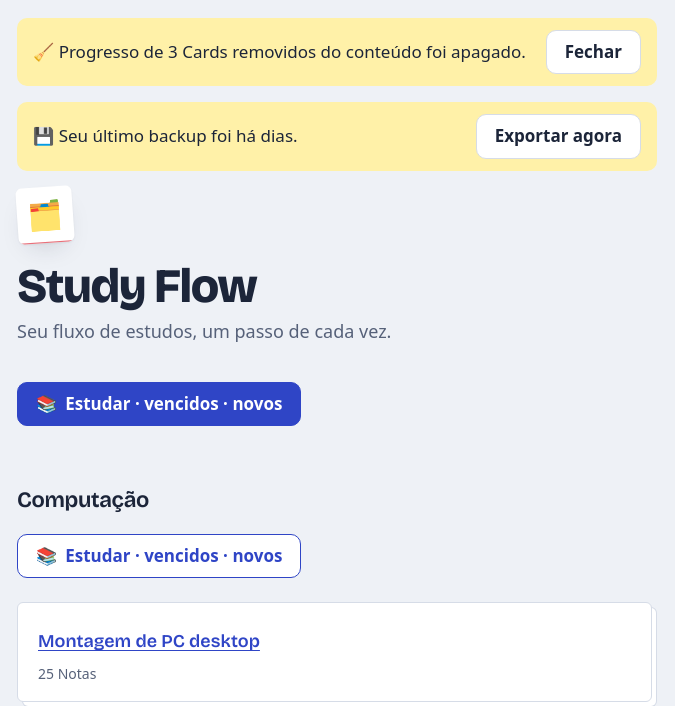
Test: AvisoOrfaos › aparece com Cards removidos e, fechado, não volta ao navegar
Check: the text "Progresso de 3 Cards removidos do conteúdo foi apagado." is shown, box [59, 40, 526, 63]
Click the button "Fechar" at point(593, 52), box [546, 30, 641, 74]
(page scrolled)
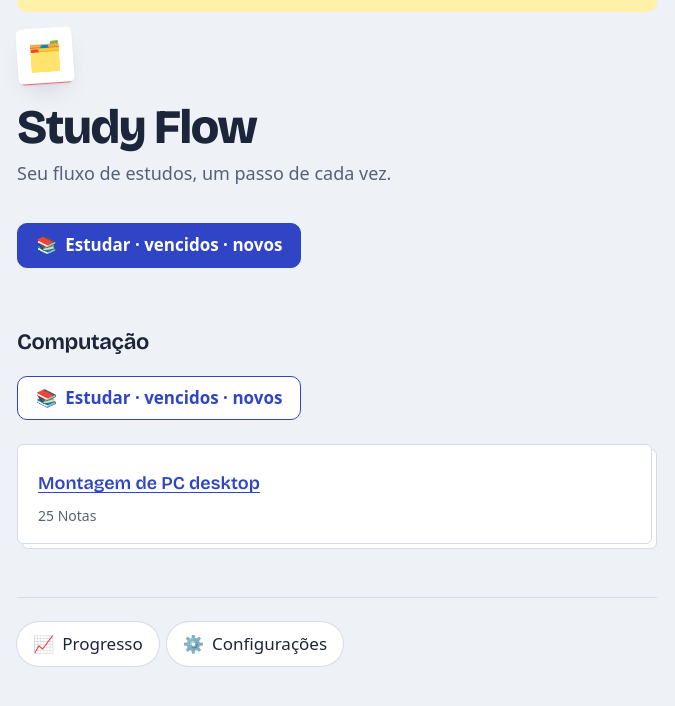
Check: the text "Progresso de 3 Cards removidos do conteúdo foi apagado." is gone
Click the link "⚙️ Configurações" at point(255, 644), box [167, 622, 343, 666]
(page scrolled)
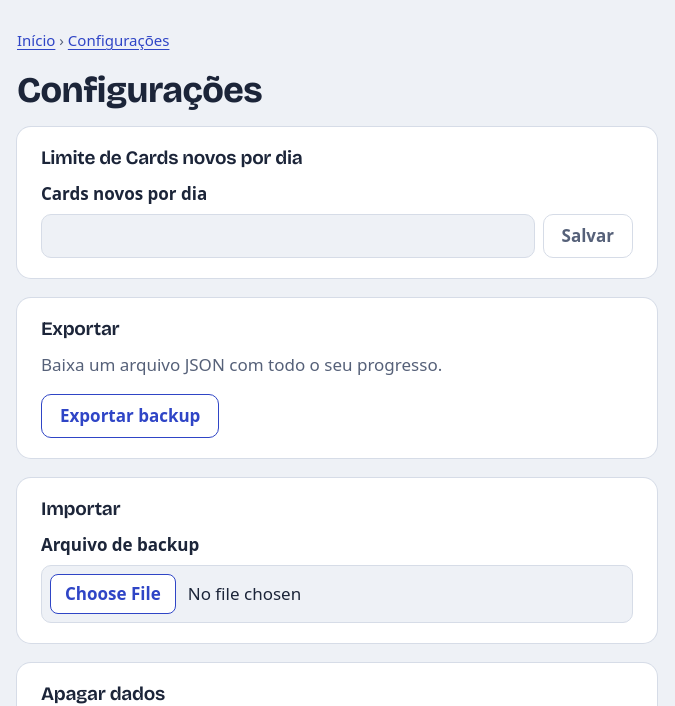
Click the link "Início" at point(36, 40), box [17, 30, 55, 50]
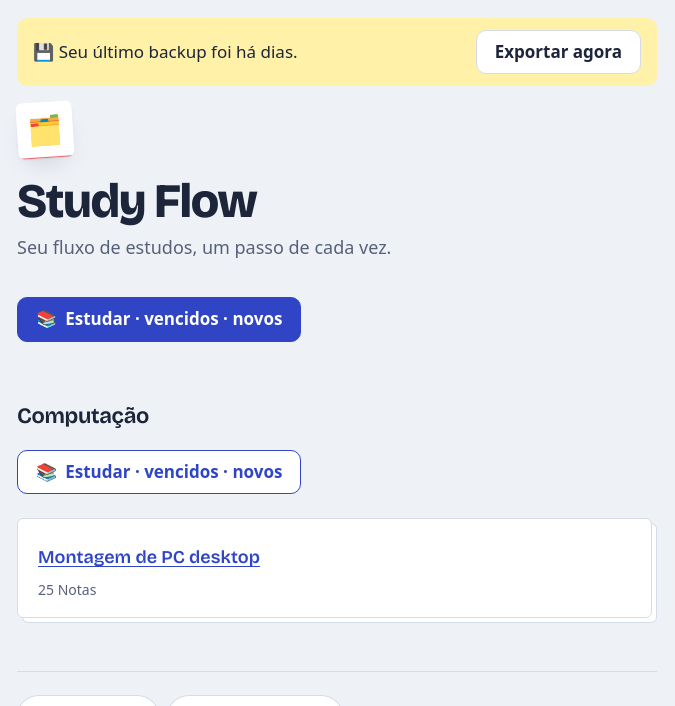
Check: the text "Progresso de 3 Cards removidos do conteúdo foi apagado." is not shown
Check: the heading "Study Flow" is shown, box [17, 172, 256, 230]
